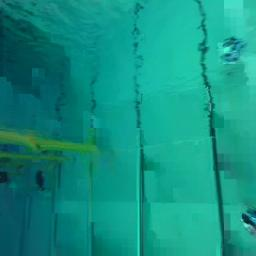Full: (240, 206, 256, 238)
